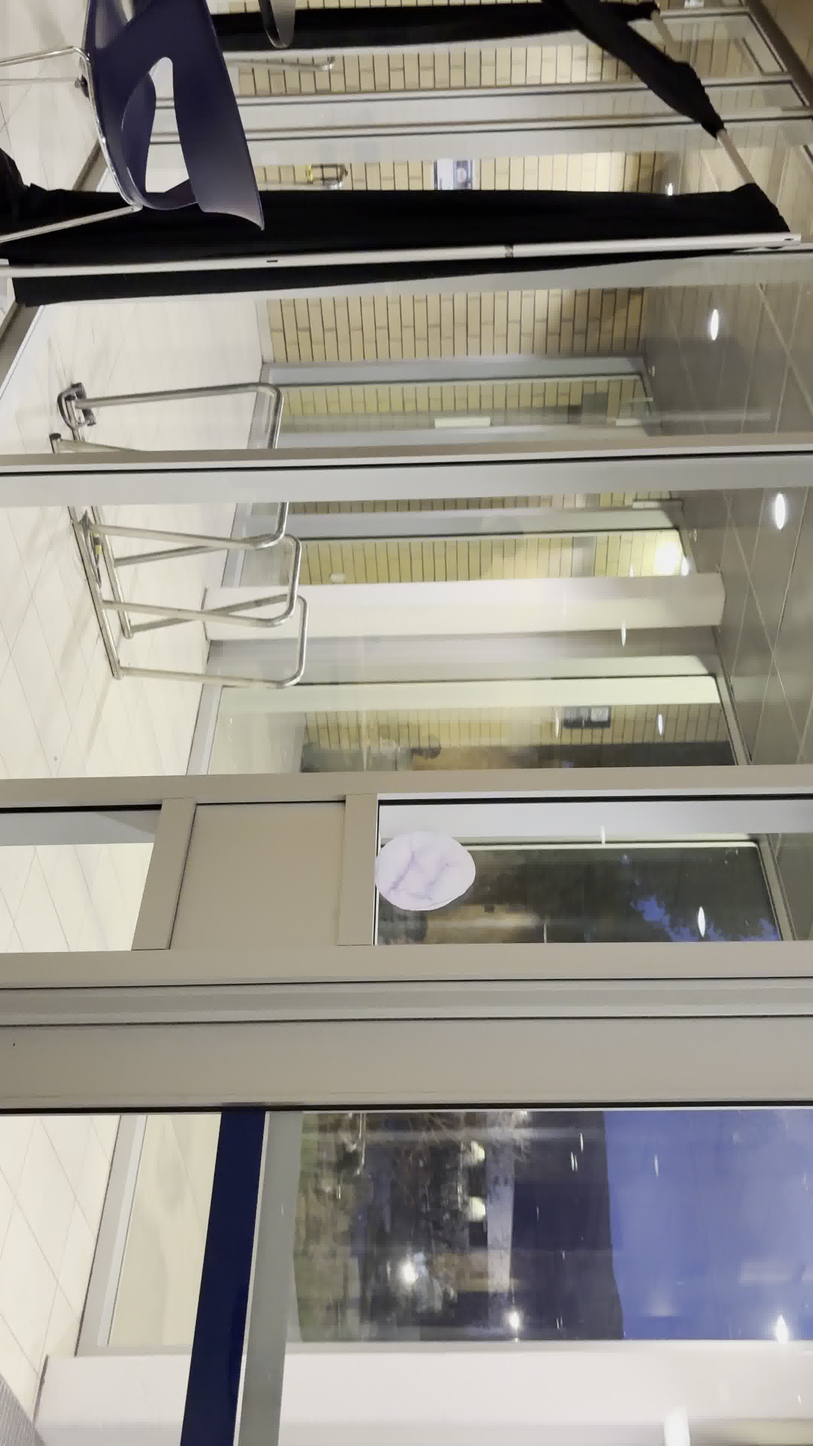Target: (373, 828, 478, 913)
